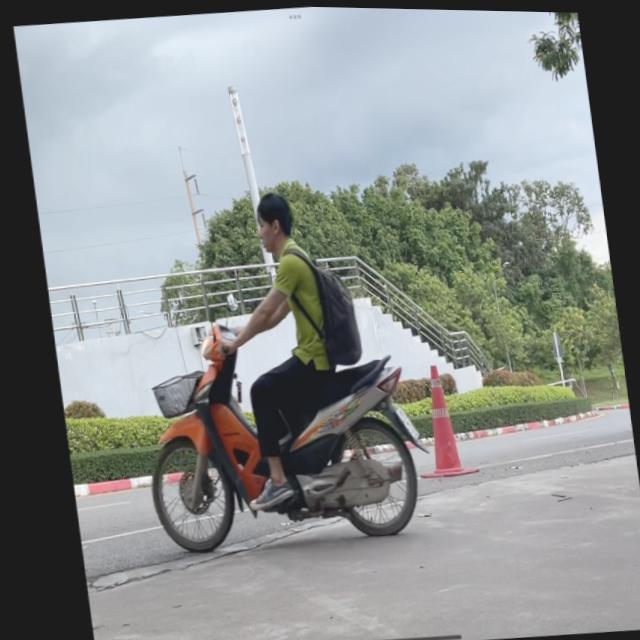seatbelt: (251, 188, 296, 256)
